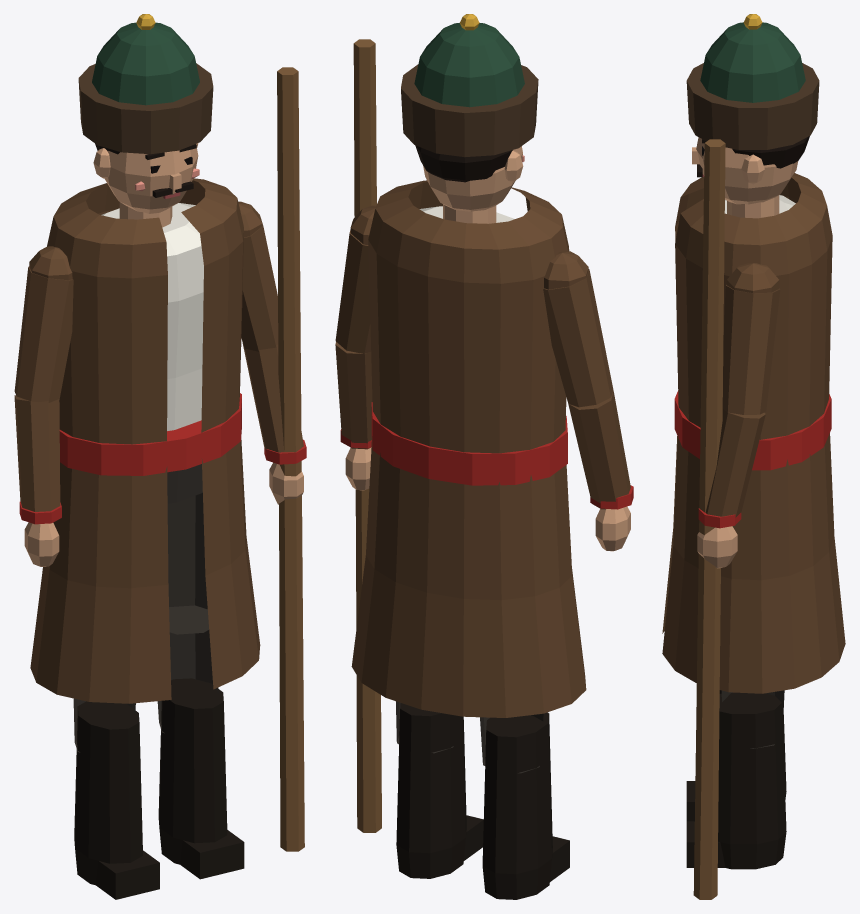
Rendered from Villager_Chaban.obj.
3 views of the same model, side by side, from view 1: azimuth 30°, elevation 25°; view 2: azimuth 150°, elevation 25°; view 3: azimuth 270°, elevation 25° (orthographic). The views are drawn at different scales.
Visible parts, largest first — view 1: Villager_Chaban; view 2: Villager_Chaban; view 3: Villager_Chaban.
Boxes of the visible parts, <box> form: Villager_Chaban: <box>14,14,306,899</box>; Villager_Chaban: <box>335,14,633,899</box>; Villager_Chaban: <box>662,14,845,899</box>.
Size of the model in its own units: 0.67 by 1.92 by 0.3861.
